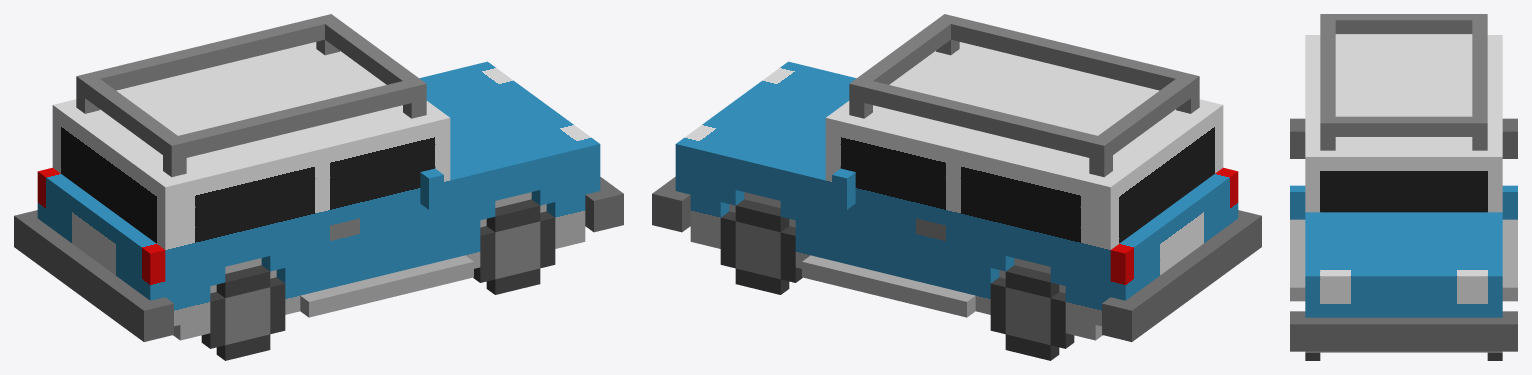
The model's file is veh_suv2.fbx.
The picture shows the model from 3 angles, left to right: view 1: azimuth 30°, elevation 25°; view 2: azimuth 150°, elevation 25°; view 3: azimuth 270°, elevation 25°; orthographic projection. The views are drawn at different scales.
Parts seen in each view (by area): view 1: veh_suv2; view 2: veh_suv2; view 3: veh_suv2.
Boxes of the visible parts, <box> form: veh_suv2: <box>14,14,623,360</box>; veh_suv2: <box>652,14,1261,360</box>; veh_suv2: <box>1290,14,1517,360</box>.
Size of the model in its own units: 3.2 by 1.5 by 1.4.
1 material, 1 textured.
